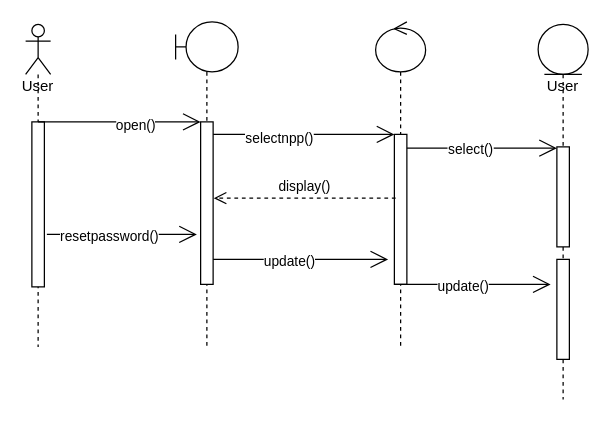
The diagram is 610 pixels wide and 421 high, and some of its shapes have lost their labels. Each missing label, with the box of its shape:
Control Reset Password: (374, 21, 426, 347)
Reset Password: (174, 21, 238, 347)
